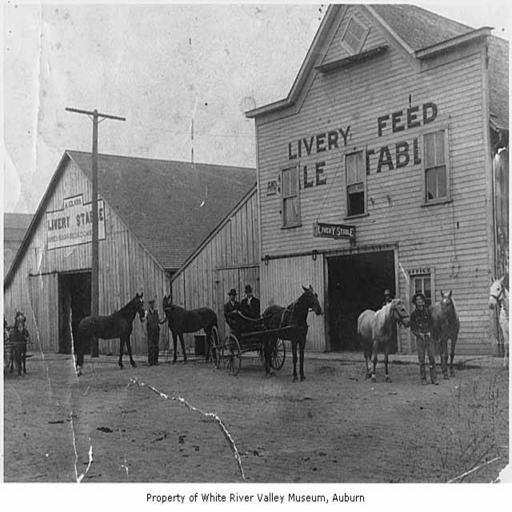horse: (260, 282, 322, 380), (355, 296, 414, 383), (71, 298, 143, 368), (163, 291, 222, 365), (428, 291, 462, 379), (483, 272, 511, 364)
